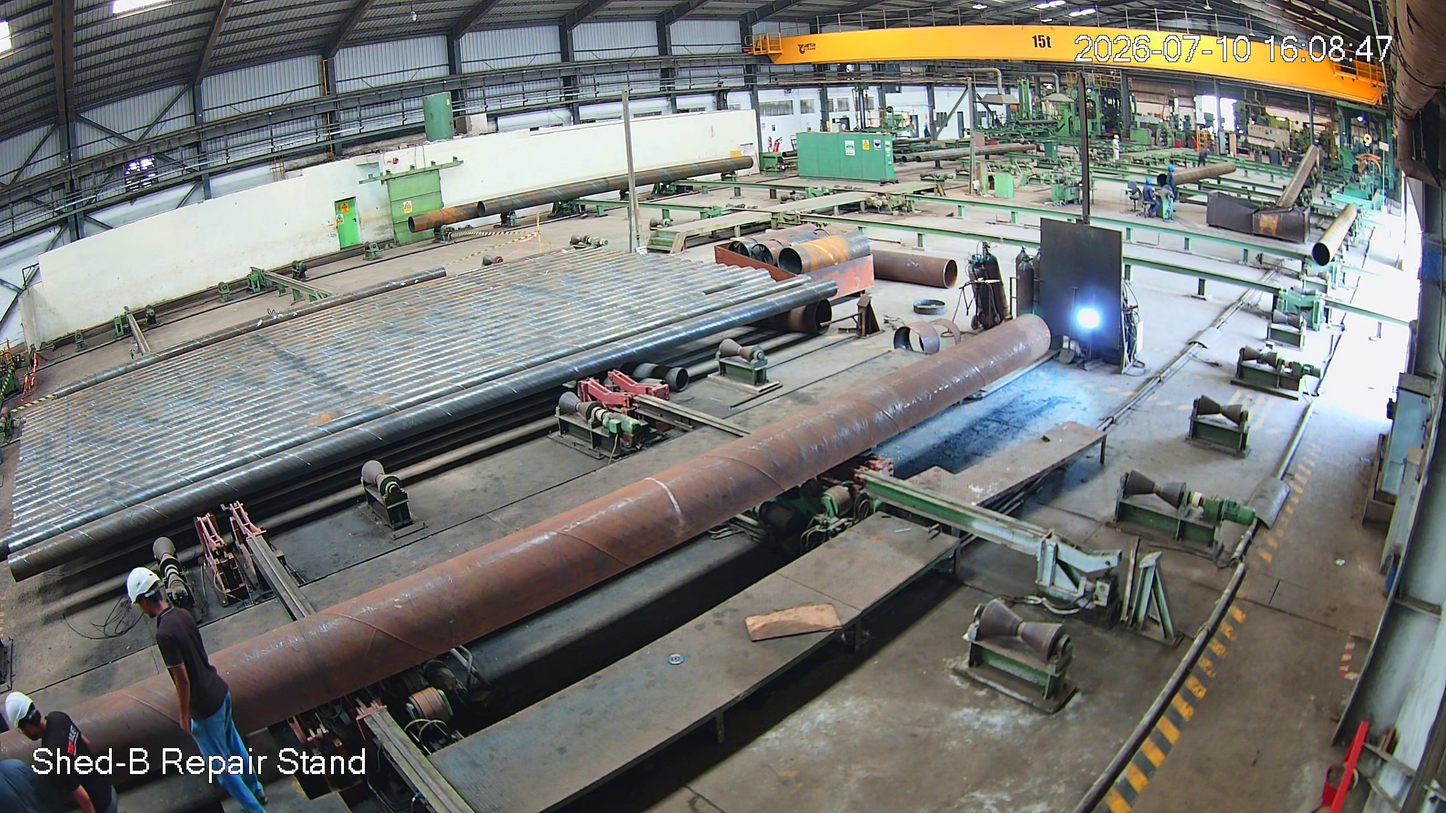Helmet: (103, 560, 172, 629), (2, 678, 63, 750)
Person: (123, 569, 272, 813), (2, 685, 127, 813)
